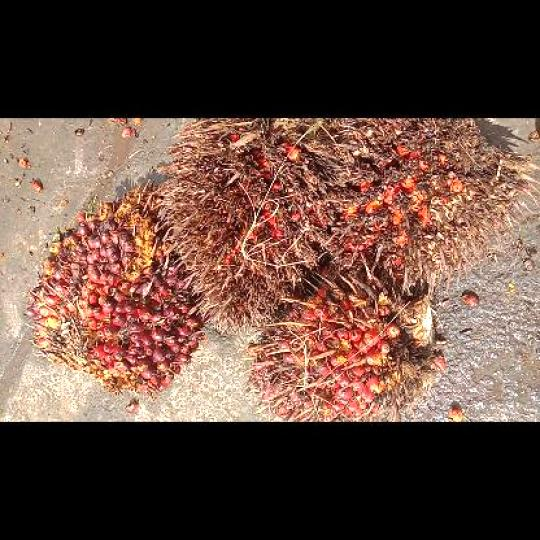masak: (23, 179, 208, 403), (240, 258, 445, 420)
terlalu masak: (151, 118, 345, 334), (318, 118, 539, 297)
